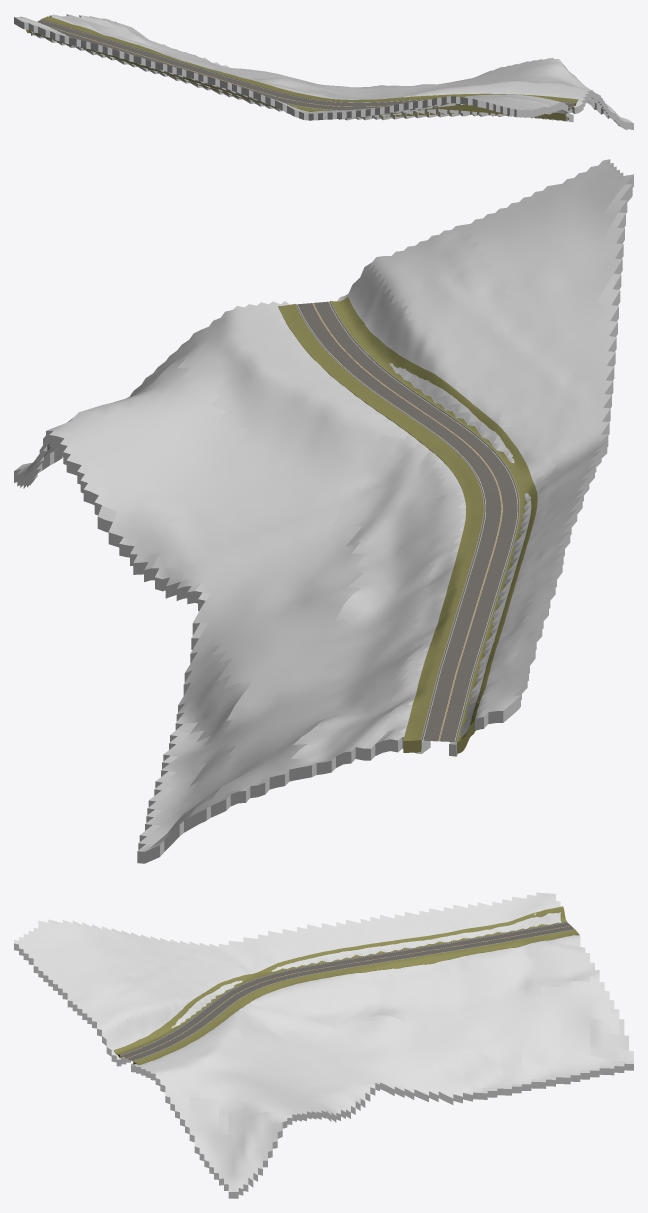
The model's file is conz_80.glb.
The picture shows the model from 3 angles, top to bottom: view 1: azimuth 30°, elevation 25°; view 2: azimuth 150°, elevation 25°; view 3: azimuth 270°, elevation 25°; orthographic projection. The views are drawn at different scales.
Visible parts, largest first — view 1: terrain80, road80, verge80L, verge80R, kerb80_80228, paint_yellow80; view 2: terrain80, road80, verge80L, verge80R, paint_white80; view 3: terrain80, road80, verge80L, verge80R, kerb80_80186.
Part boxes in pixels (bbox=[...]): terrain80: bbox=[14, 14, 633, 130]; road80: bbox=[37, 19, 574, 110]; verge80L: bbox=[42, 16, 578, 109]; verge80R: bbox=[26, 22, 566, 120]; kerb80_80228: bbox=[41, 19, 575, 103]; paint_yellow80: bbox=[50, 27, 571, 107]; terrain80: bbox=[14, 159, 633, 863]; road80: bbox=[296, 301, 519, 741]; verge80L: bbox=[278, 304, 483, 752]; verge80R: bbox=[331, 297, 537, 753]; paint_white80: bbox=[297, 301, 517, 741]; terrain80: bbox=[14, 892, 633, 1198]; road80: bbox=[120, 922, 574, 1061]; verge80L: bbox=[133, 929, 579, 1064]; verge80R: bbox=[113, 906, 566, 1060]; kerb80_80186: bbox=[120, 921, 566, 1055].
Size of the model in its own units: 204 by 73.6 by 254.
